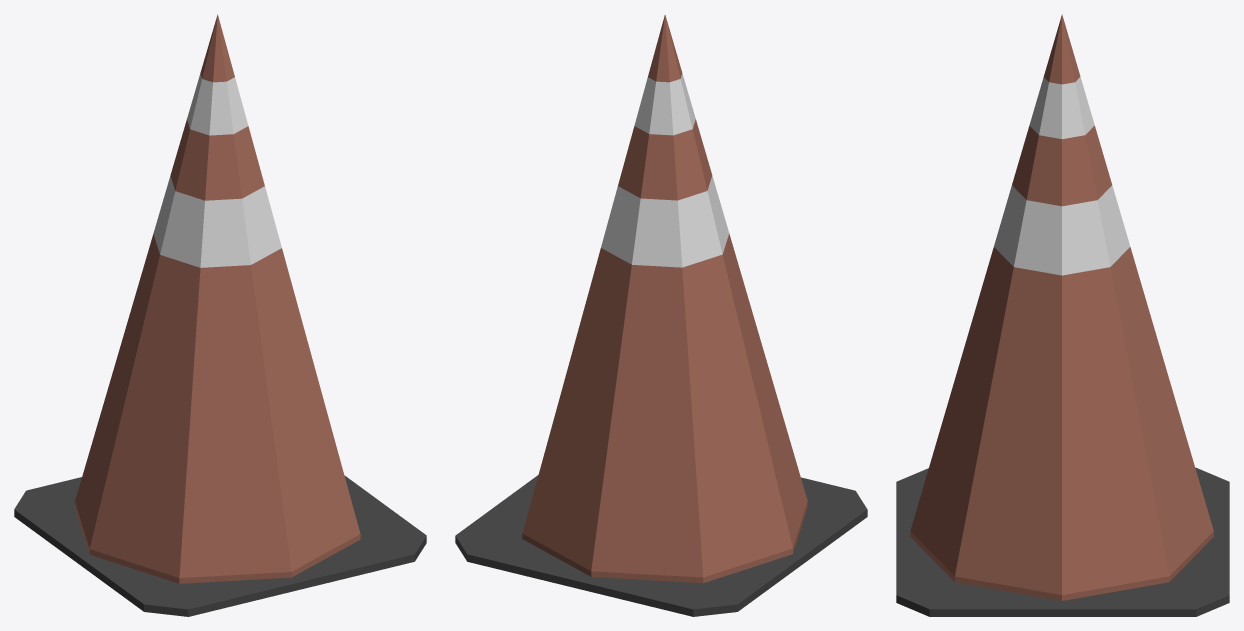
The model's file is SM_Trafficcone.fbx.
The picture shows the model from 3 angles, left to right: view 1: azimuth 30°, elevation 25°; view 2: azimuth 150°, elevation 25°; view 3: azimuth 270°, elevation 25°; orthographic projection. The views are drawn at different scales.
Parts seen in each view (by area): view 1: pCylinder8; view 2: pCylinder8; view 3: pCylinder8.
Boxes of the visible parts, <box> form: pCylinder8: <box>14,14,426,616</box>; pCylinder8: <box>455,14,867,616</box>; pCylinder8: <box>896,14,1229,616</box>.
Bounding box in the file's own units: 1 × 1.75 × 0.9986.
